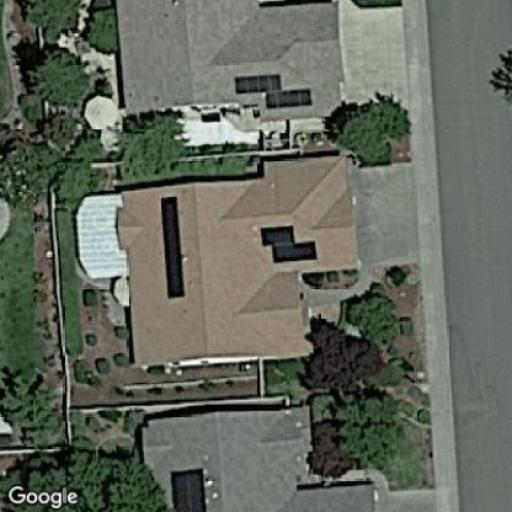solar-panel: (232, 71, 317, 111), (158, 193, 188, 302), (258, 222, 320, 267), (167, 464, 212, 511)
